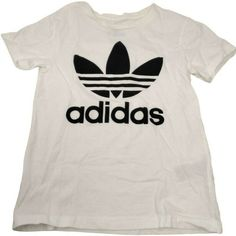adidas Originale: (61, 39, 173, 131)
